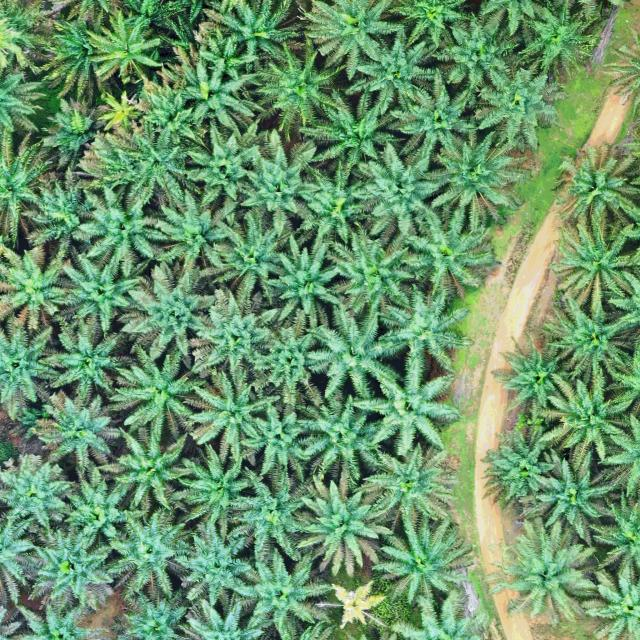Tree: (490, 518, 597, 626), (287, 471, 396, 577), (351, 354, 462, 458), (225, 124, 324, 236), (66, 178, 172, 282), (420, 129, 528, 231), (336, 19, 445, 120), (99, 501, 204, 605), (229, 543, 341, 640), (224, 463, 328, 567), (38, 309, 142, 412), (84, 116, 202, 206), (121, 255, 218, 364), (200, 201, 301, 305), (347, 134, 446, 240), (186, 278, 285, 384), (103, 338, 207, 437), (164, 438, 267, 536), (369, 518, 473, 614), (379, 62, 480, 160), (374, 278, 476, 373), (549, 216, 640, 320), (323, 225, 420, 322), (470, 59, 570, 153), (526, 448, 618, 550), (23, 521, 122, 615), (400, 200, 496, 296), (26, 5, 122, 101), (22, 384, 124, 474), (304, 304, 399, 399), (294, 0, 406, 80), (357, 439, 464, 522), (296, 88, 399, 174), (252, 40, 351, 129), (18, 160, 103, 263), (100, 424, 192, 518), (154, 182, 239, 282), (541, 299, 639, 385), (238, 396, 330, 486), (542, 374, 634, 464), (170, 516, 258, 610), (0, 238, 78, 344), (172, 54, 270, 138), (260, 233, 346, 328), (549, 138, 640, 227), (296, 391, 382, 485), (289, 152, 373, 246), (0, 123, 59, 254), (432, 11, 524, 95), (252, 312, 334, 406), (55, 464, 148, 546), (60, 247, 146, 335), (482, 428, 566, 516), (0, 320, 68, 428), (177, 126, 272, 202), (186, 366, 276, 445), (486, 328, 567, 412), (0, 450, 79, 536), (127, 75, 213, 149), (80, 11, 168, 81), (580, 490, 640, 591), (518, 1, 600, 74), (38, 94, 109, 168), (574, 562, 640, 640), (192, 21, 267, 82), (97, 88, 142, 134)
